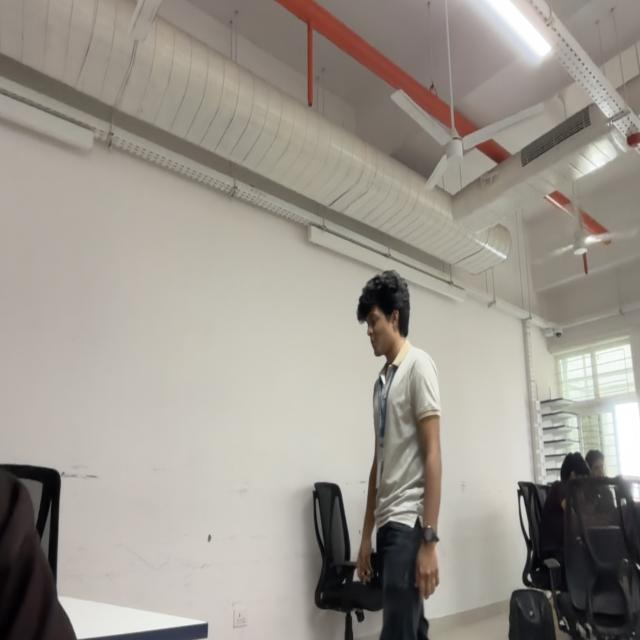kshitij: (358, 272, 411, 358)
